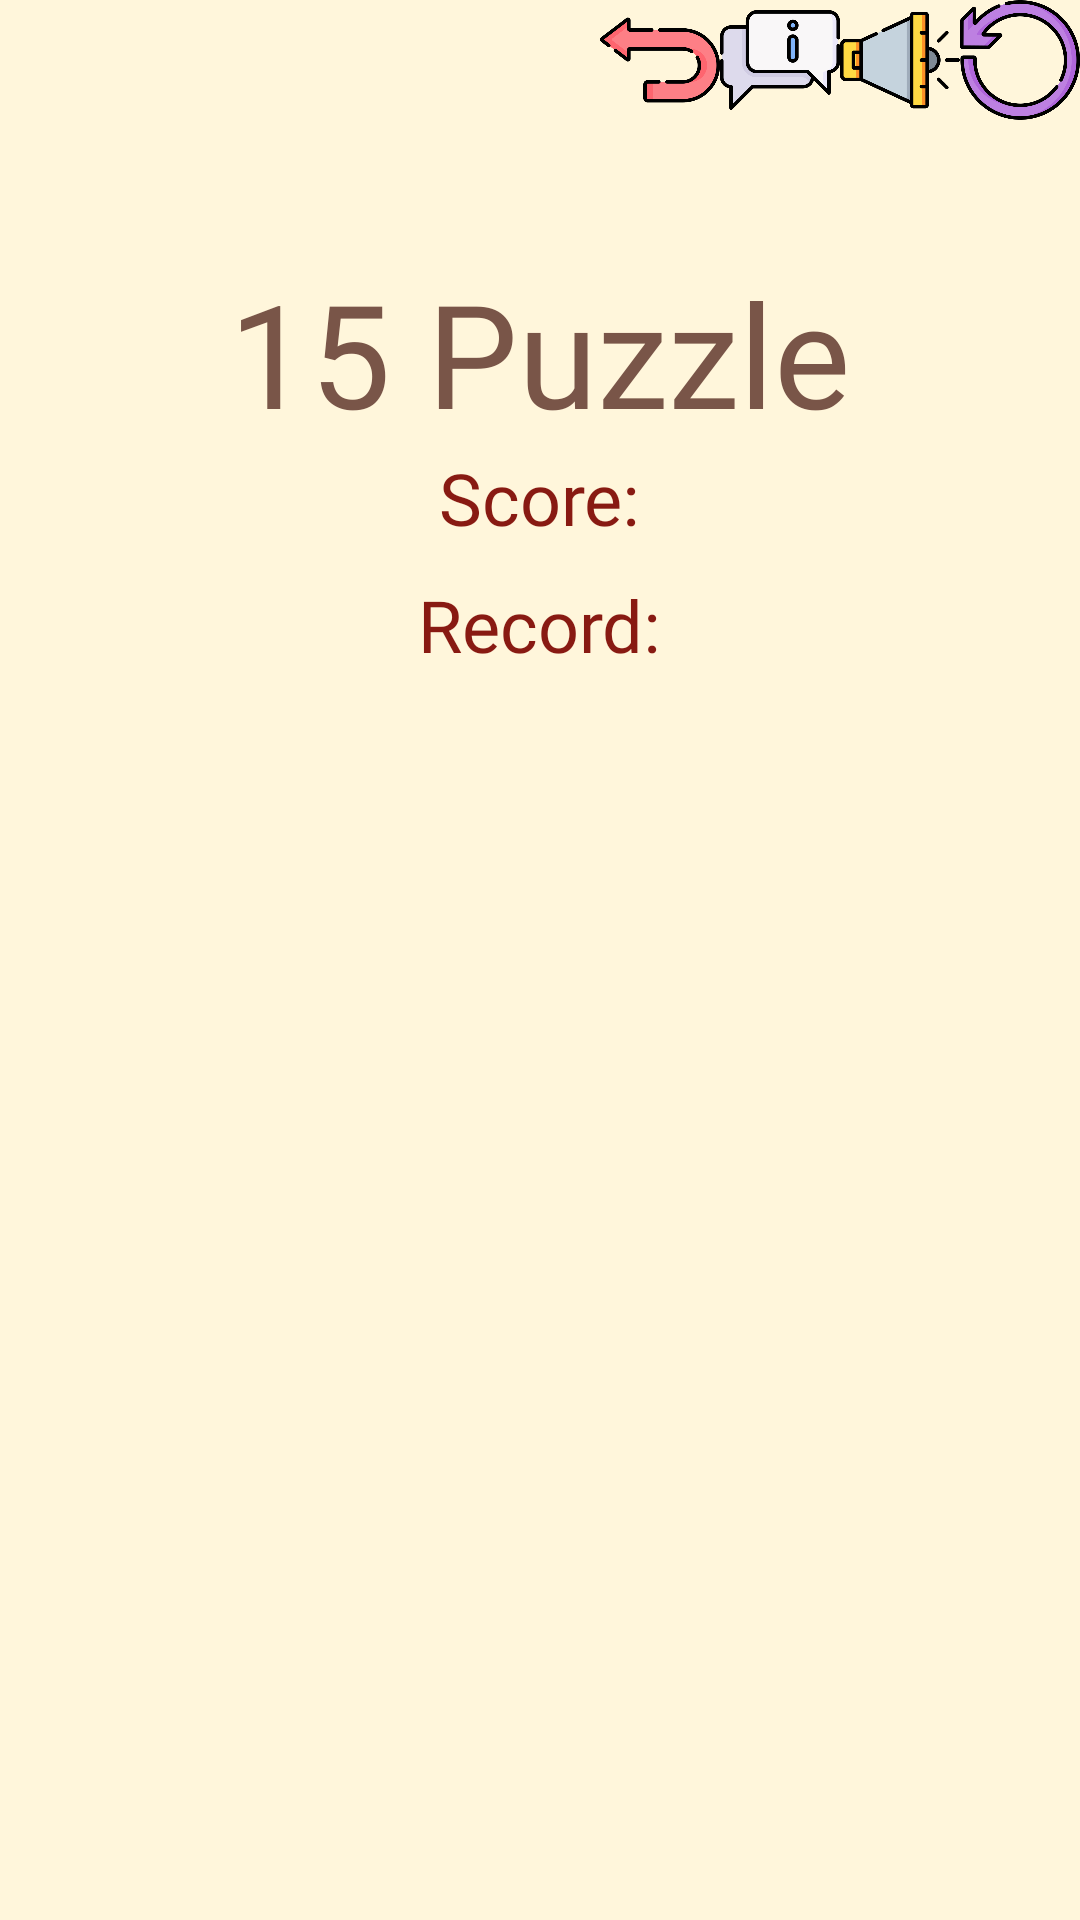

Icons on this 1080x1920 Android screen, each with its box as box(x1, y1, x2, y2):
back: box(600, 17, 720, 103)
info: box(720, 10, 840, 110)
reload: box(960, 0, 1080, 120)
sound on: box(840, 12, 960, 109)
